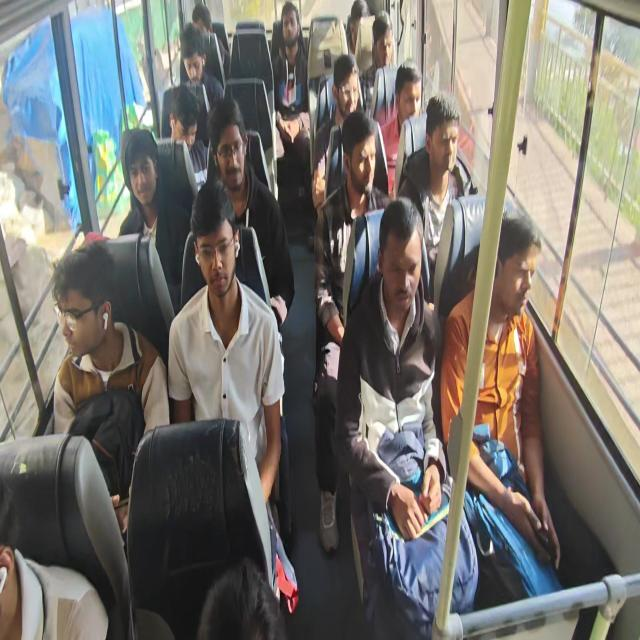person: (51, 266, 117, 365), (485, 213, 544, 313), (192, 200, 239, 294), (384, 211, 422, 310), (118, 140, 162, 208), (212, 119, 250, 194), (424, 100, 463, 169), (341, 130, 380, 198), (163, 91, 200, 158), (392, 62, 424, 127), (330, 62, 359, 114), (174, 39, 204, 89), (190, 3, 222, 42), (344, 6, 372, 50), (278, 4, 305, 49), (373, 26, 394, 71)
